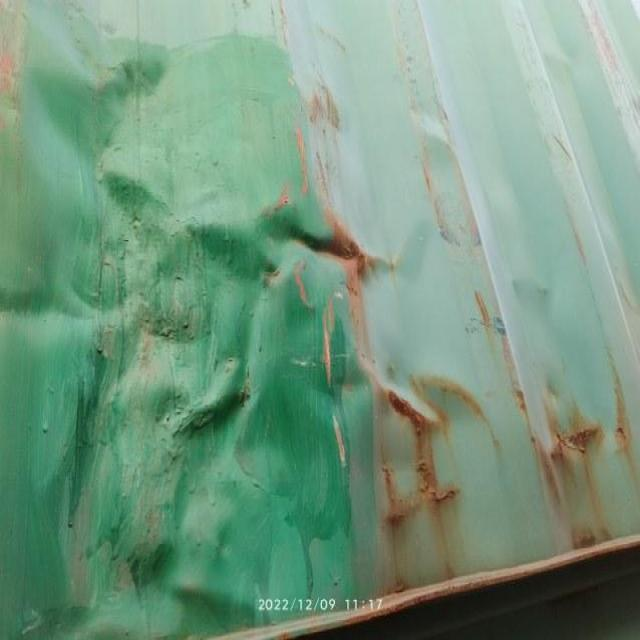Dent: (13, 27, 377, 602)
Rust: (306, 178, 374, 323), (387, 388, 461, 511)
